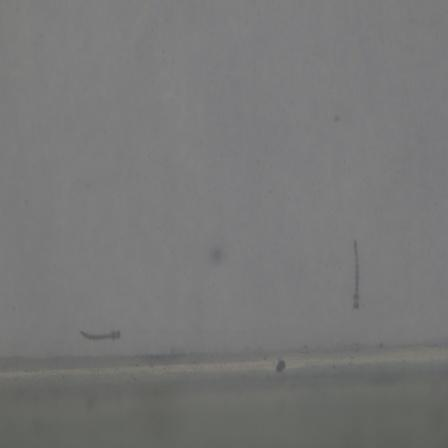Jentik-Nyamuk: (73, 324, 132, 346), (350, 238, 365, 312)
